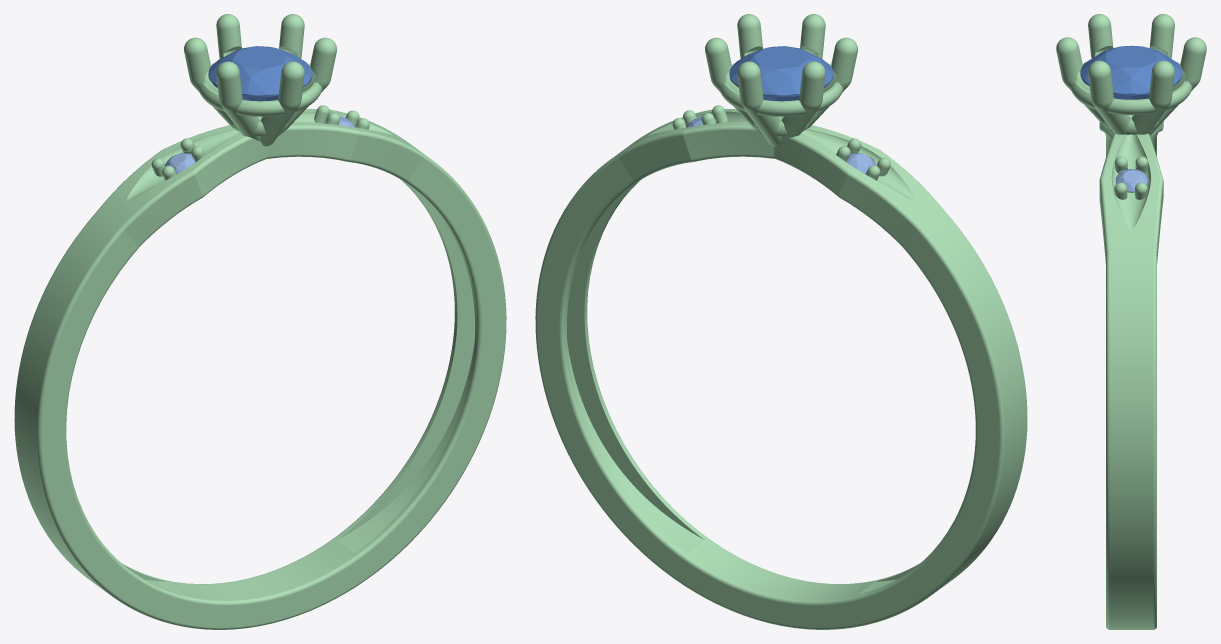
3 renders of one model, left to right at view 1: azimuth 30°, elevation 25°; view 2: azimuth 150°, elevation 25°; view 3: azimuth 270°, elevation 25°, orthographic.
Visible parts, largest first — view 1: Anel28N°19Renderr.3dm, Gem; view 2: Anel28N°19Renderr.3dm, Gem; view 3: Anel28N°19Renderr.3dm, Gem (×2).
Boxes of the visible parts, x1,y1,x2,y2 form: Anel28N°19Renderr.3dm: (14,14,506,629); Gem: (208,46,312,101); Anel28N°19Renderr.3dm: (535,14,1027,629); Gem: (729,46,833,101); Anel28N°19Renderr.3dm: (1056,14,1206,629); Gem (×2): (1080,45,1182,192).
Size of the model in its own units: 2.55 by 3 by 0.7216.
